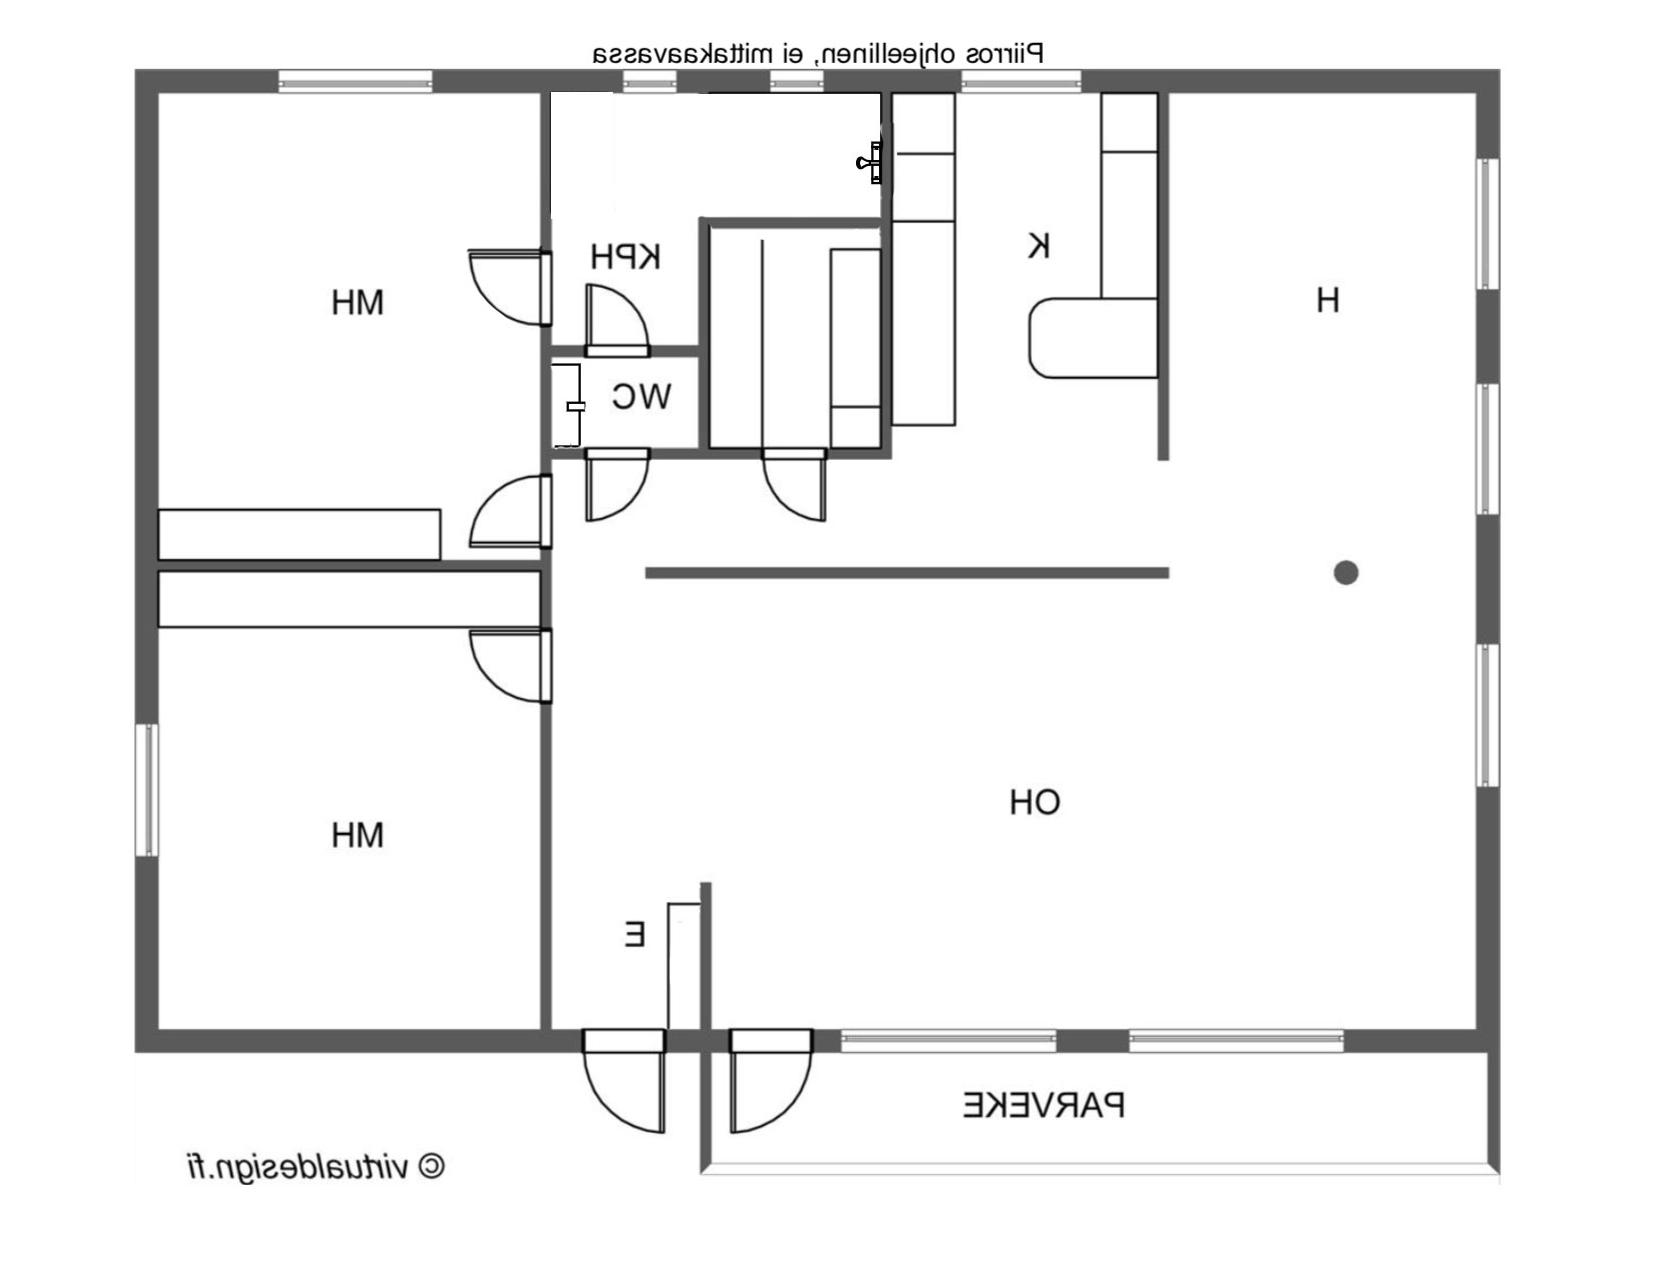bathroom: (553, 356, 703, 452)
door: (721, 1016, 823, 1139), (578, 1022, 668, 1142), (463, 471, 557, 553), (467, 622, 557, 707), (464, 245, 559, 324), (578, 439, 656, 530), (757, 443, 831, 529), (583, 282, 656, 365)
perimeter: (127, 66, 1503, 1056)
window: (830, 1018, 1076, 1068), (1119, 1021, 1365, 1068), (1463, 632, 1512, 806), (268, 55, 443, 100), (126, 700, 169, 875), (1467, 143, 1509, 301), (1465, 373, 1507, 533), (958, 71, 1092, 100), (602, 62, 696, 103), (749, 60, 836, 99)
